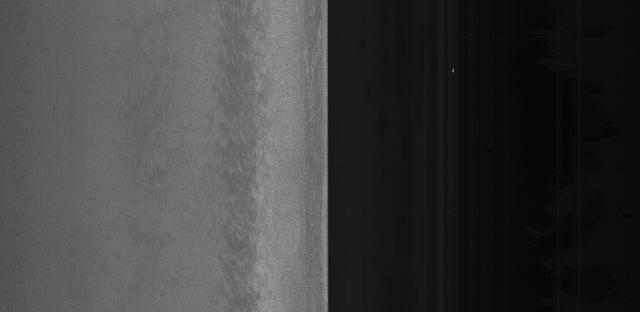silk_spot: (213, 104, 277, 192)
